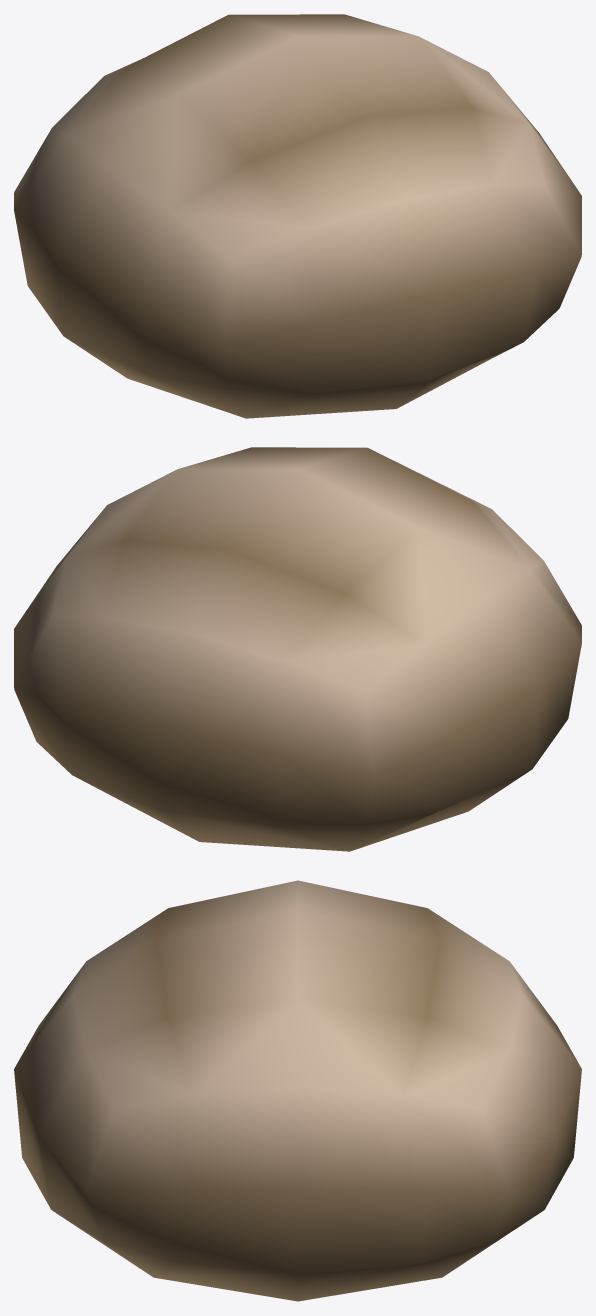
Rendered from girth_bread.glb.
3 renders of one model, top to bottom at view 1: azimuth 30°, elevation 25°; view 2: azimuth 150°, elevation 25°; view 3: azimuth 270°, elevation 25°, orthographic.
Visible parts, largest first — view 1: Cube; view 2: Cube; view 3: Cube.
Boxes of the visible parts, <box> form: Cube: <box>14,14,581,418</box>; Cube: <box>14,447,581,851</box>; Cube: <box>14,880,581,1301</box>.
Size of the model in its own units: 2.36 by 1.4 by 2.36.
